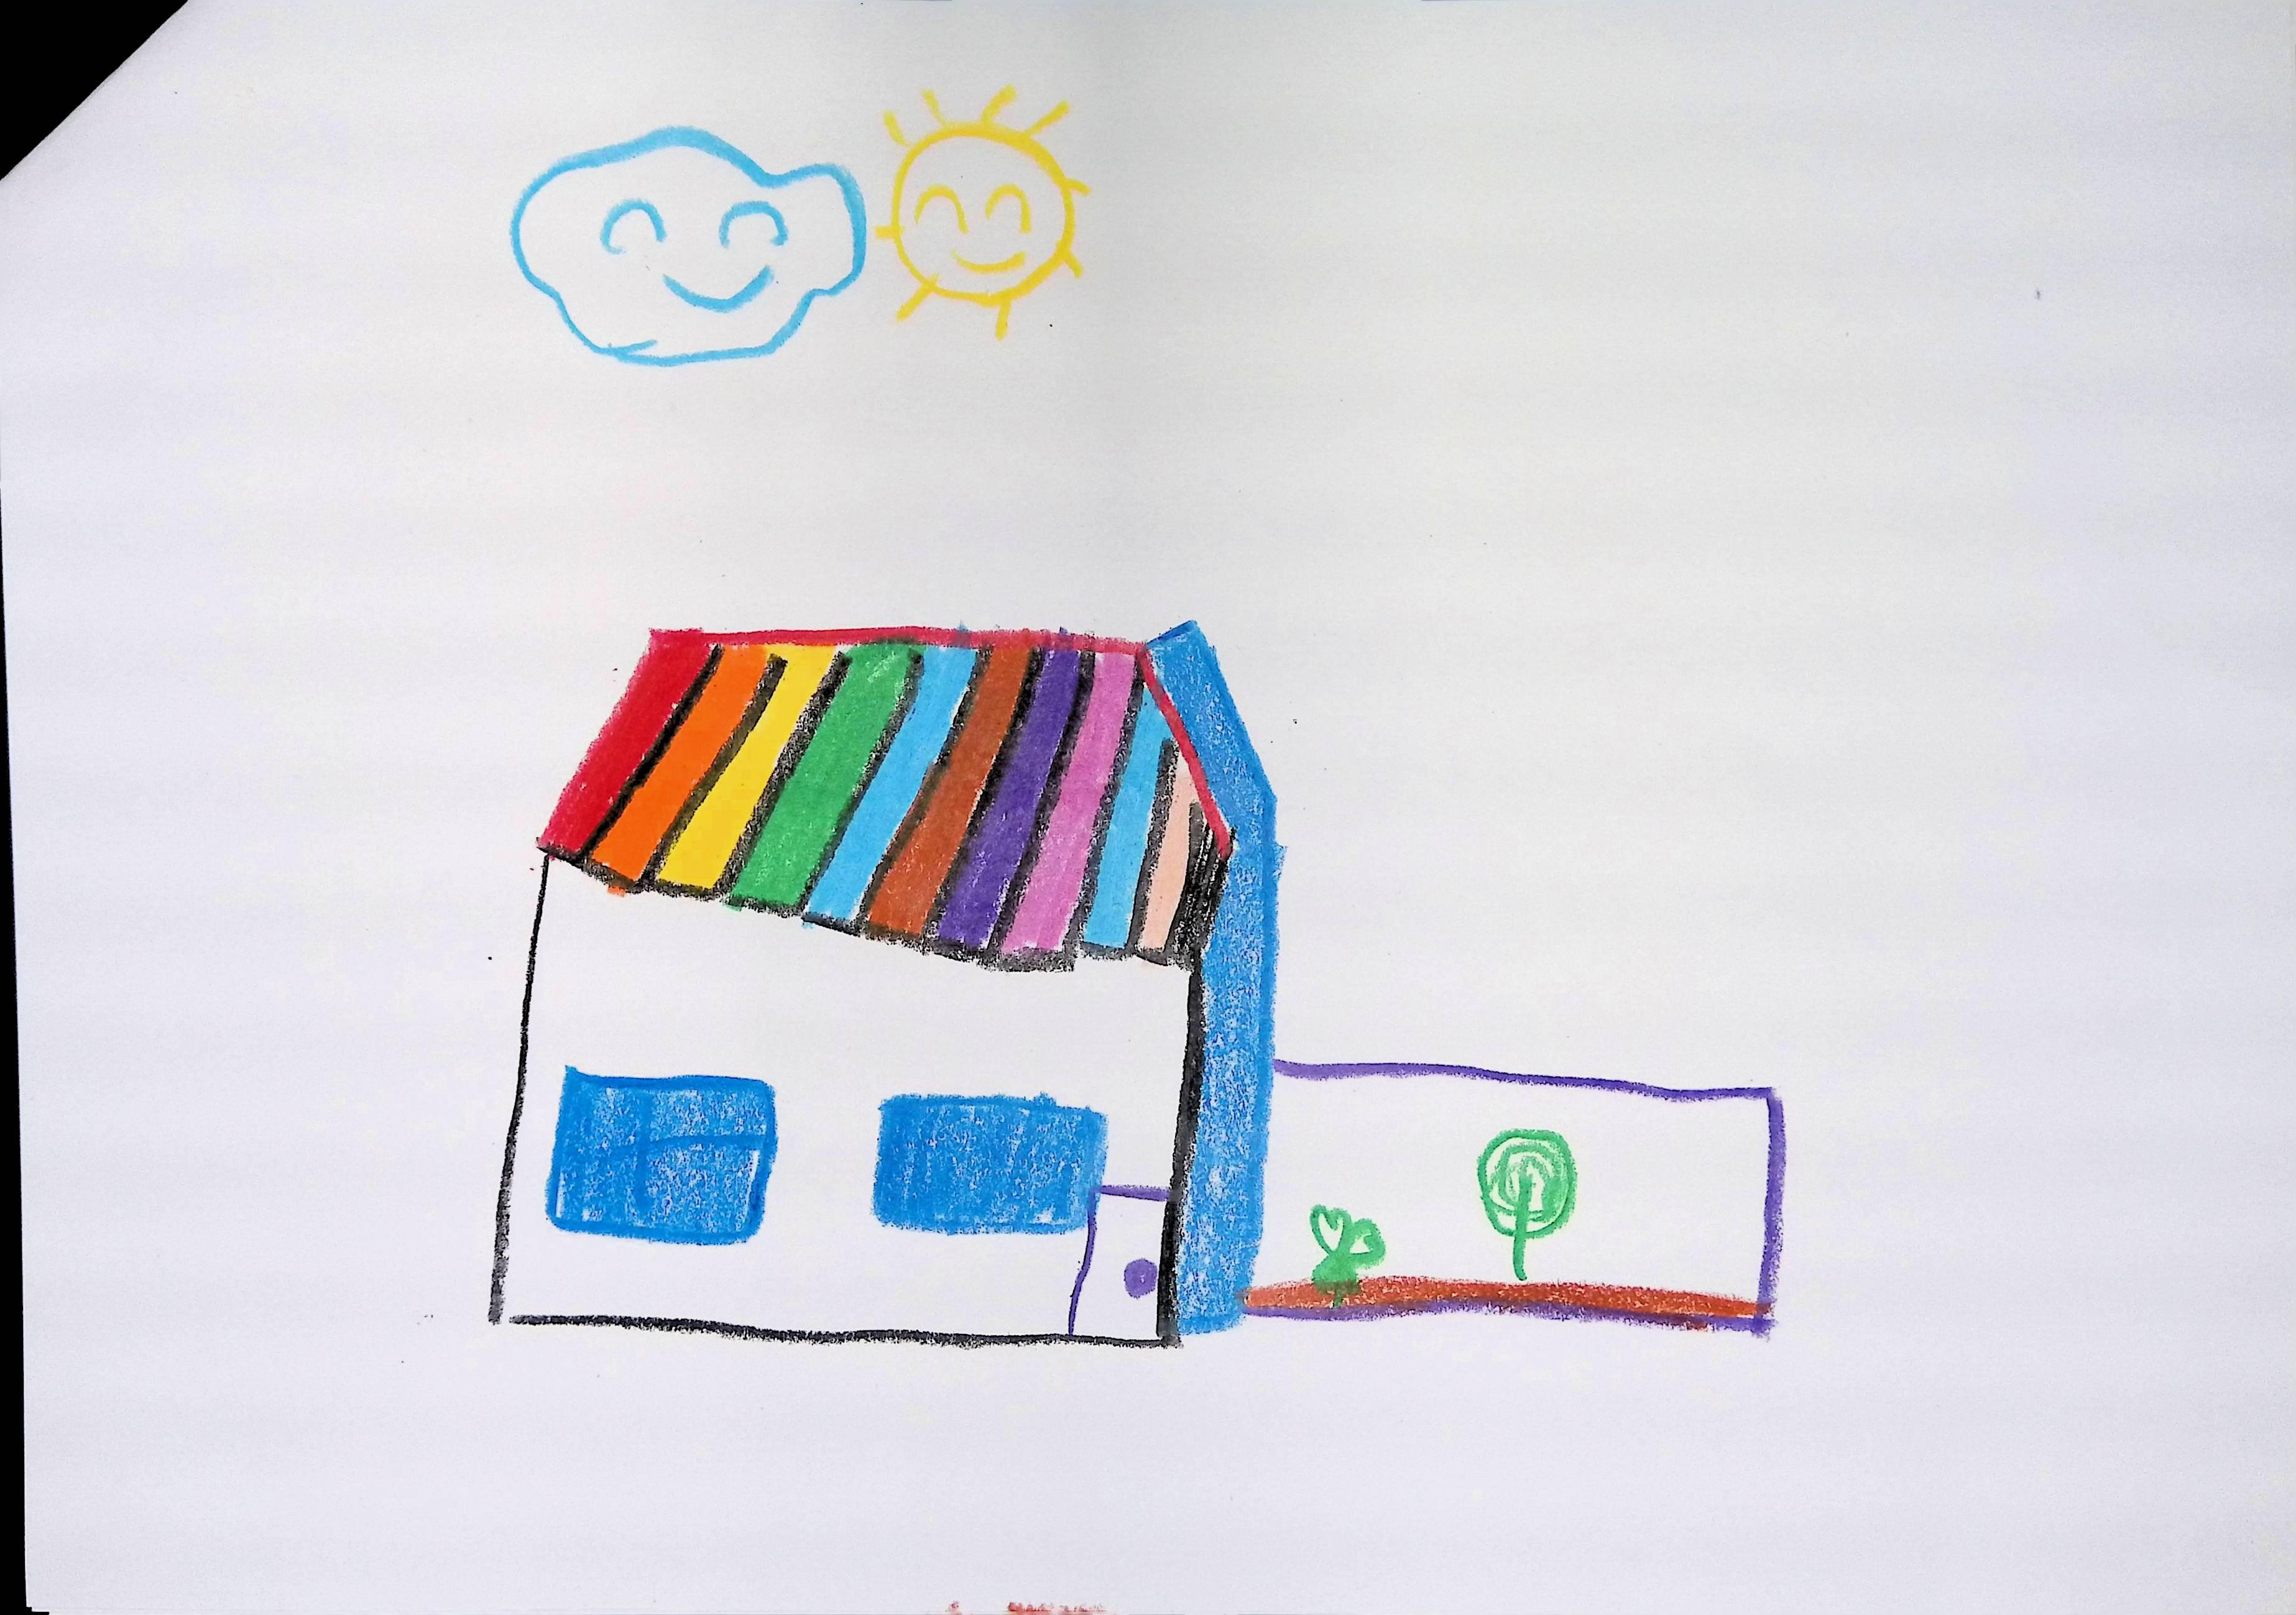door: (1073, 1196, 1165, 1337)
house: (491, 620, 1279, 1341)
roof: (540, 629, 1235, 968)
wall: (501, 862, 1190, 1341)
window: (545, 1066, 776, 1244), (874, 1094, 1106, 1234)
